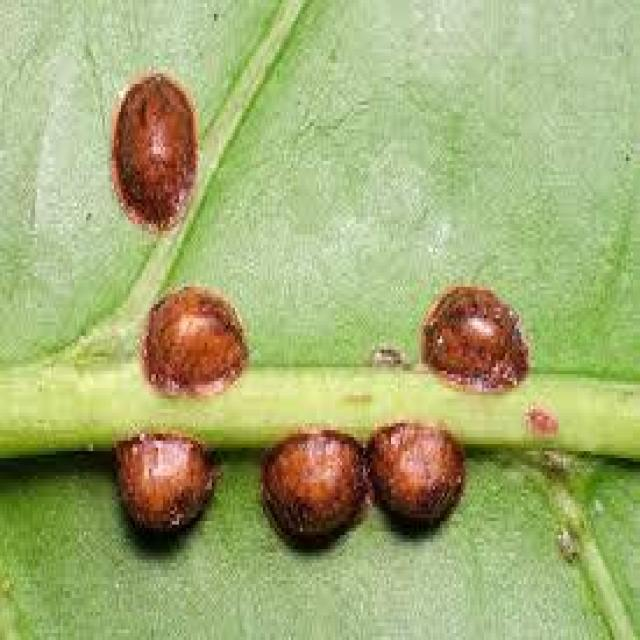BlackScale: (263, 424, 463, 546), (112, 70, 188, 231), (114, 434, 214, 549), (142, 290, 247, 392), (422, 287, 528, 388)
